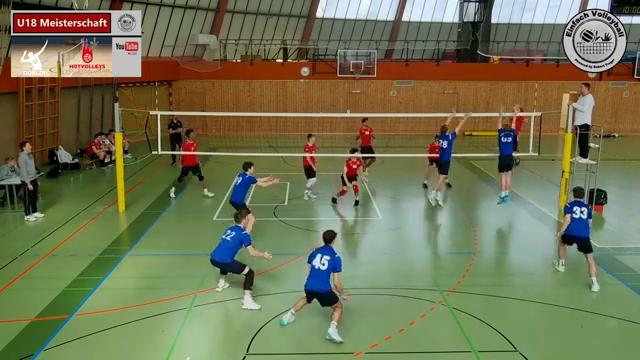attacco: (508, 103, 528, 169)
muro: (428, 106, 471, 210), (496, 103, 522, 206)
